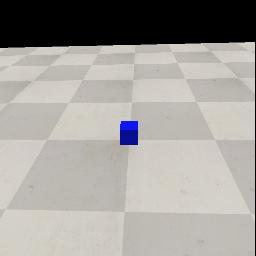box: (120, 121, 138, 145)
